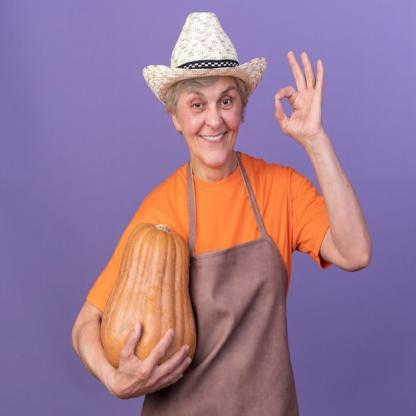ok: (273, 46, 326, 142)
